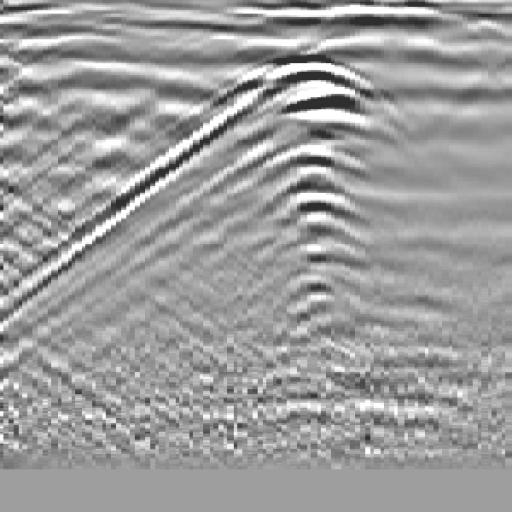metalic: (181, 38, 443, 294)
